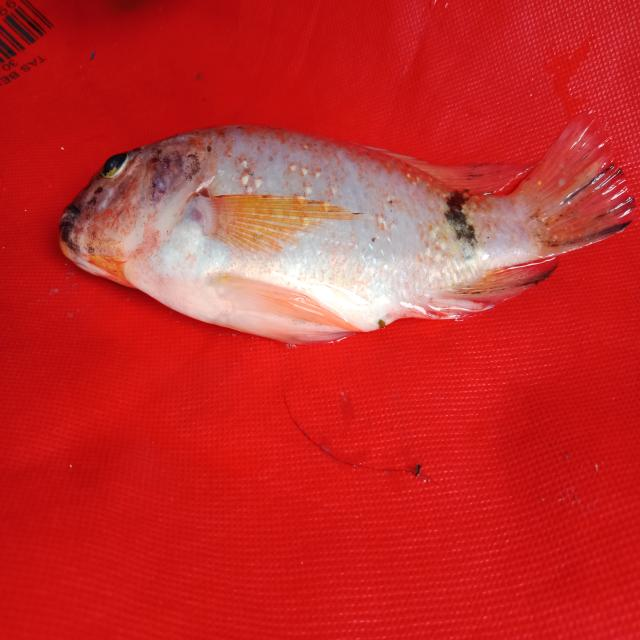ikan: (39, 81, 631, 362)
